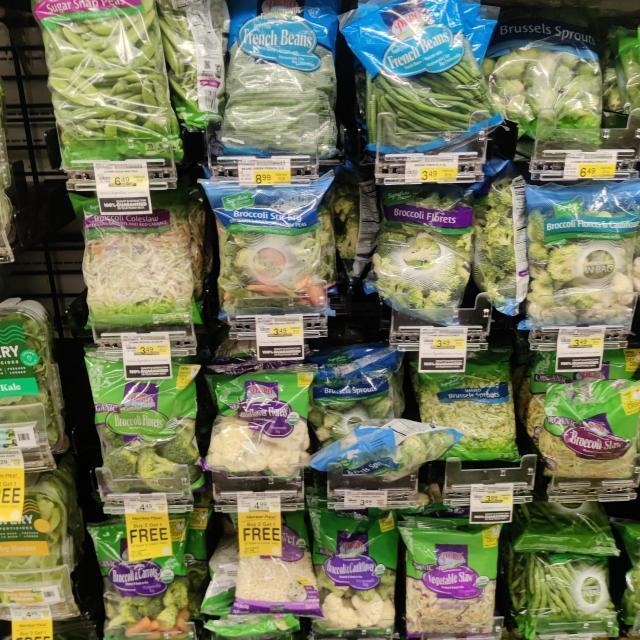Broccoli: (201, 180, 342, 322), (73, 361, 208, 509), (513, 182, 640, 334), (363, 189, 486, 322), (89, 523, 204, 640)
Brussel Sprouts: (491, 18, 618, 154), (318, 362, 435, 486)
Cauliflower: (204, 361, 320, 488), (300, 508, 408, 640)
Salad: (66, 187, 206, 328), (399, 508, 520, 640)
